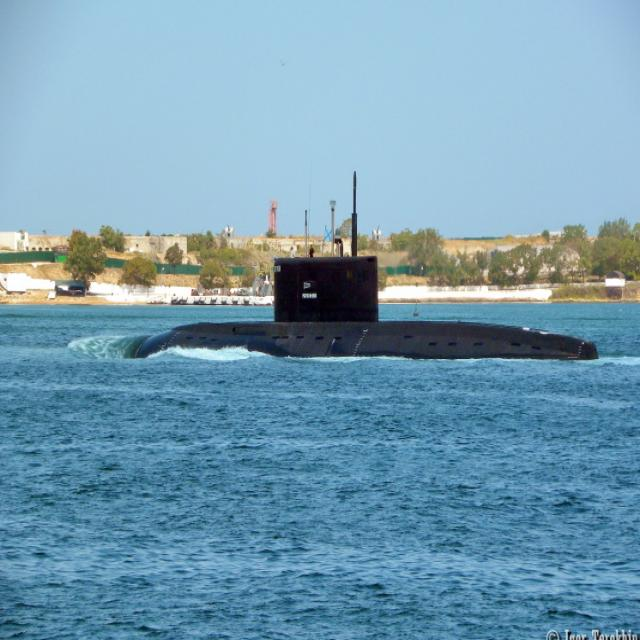submarine: (132, 257, 616, 359)
